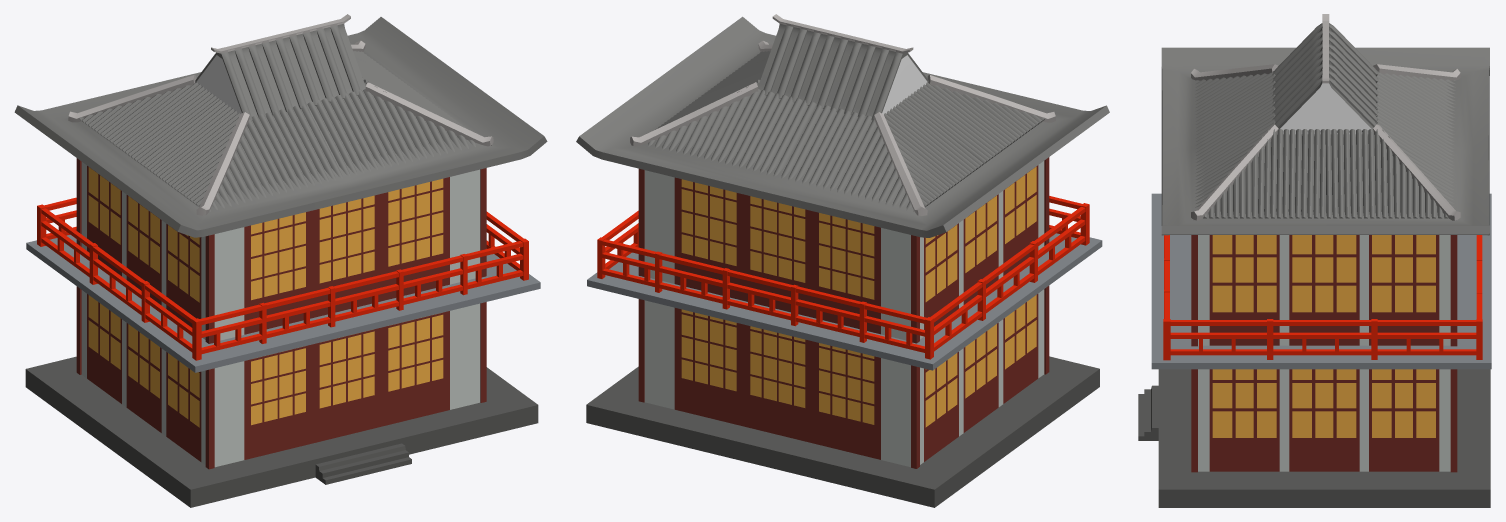
File: Building_7.fbx
The picture shows the model from 3 angles, left to right: view 1: azimuth 30°, elevation 25°; view 2: azimuth 150°, elevation 25°; view 3: azimuth 270°, elevation 25°; orthographic projection.
Parts seen in each view (by area): view 1: Building_7; view 2: Building_7; view 3: Building_7.
Part boxes in pixels (x1,y1,x2,y2): Building_7: [14, 14, 547, 507]; Building_7: [576, 14, 1109, 507]; Building_7: [1138, 14, 1491, 507].
Bounding box in the file's own units: 449 × 433 × 370.
